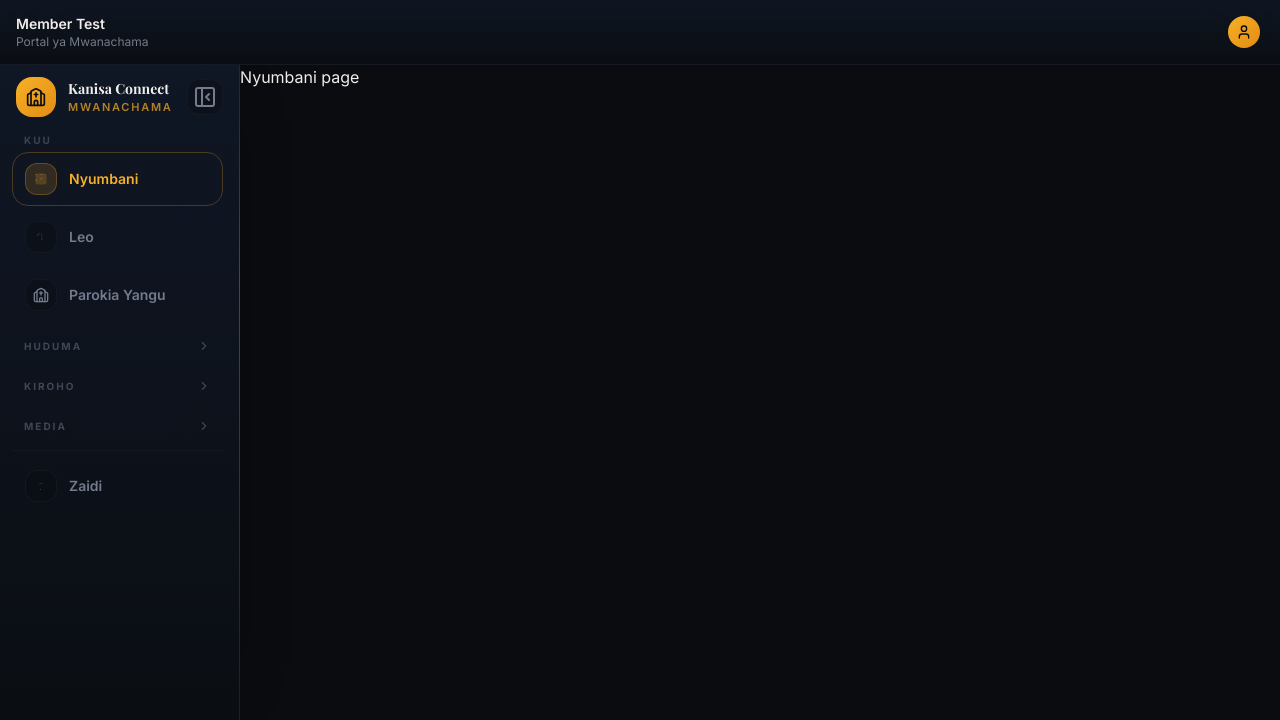
Wave 14 member navigation hierarchy runtime › renders desktop Primary without duplicate Jumuiya and keeps secondary groups intact
Check: the element with test id "member-desktop-sidebar" is shown, box [0,65,240,719]
Check: the element named "Kuu" shows "Nyumbani", box [12,152,223,206]
Click the button "Huduma": [118, 346] box [12,330,223,362]
(page scrolled)
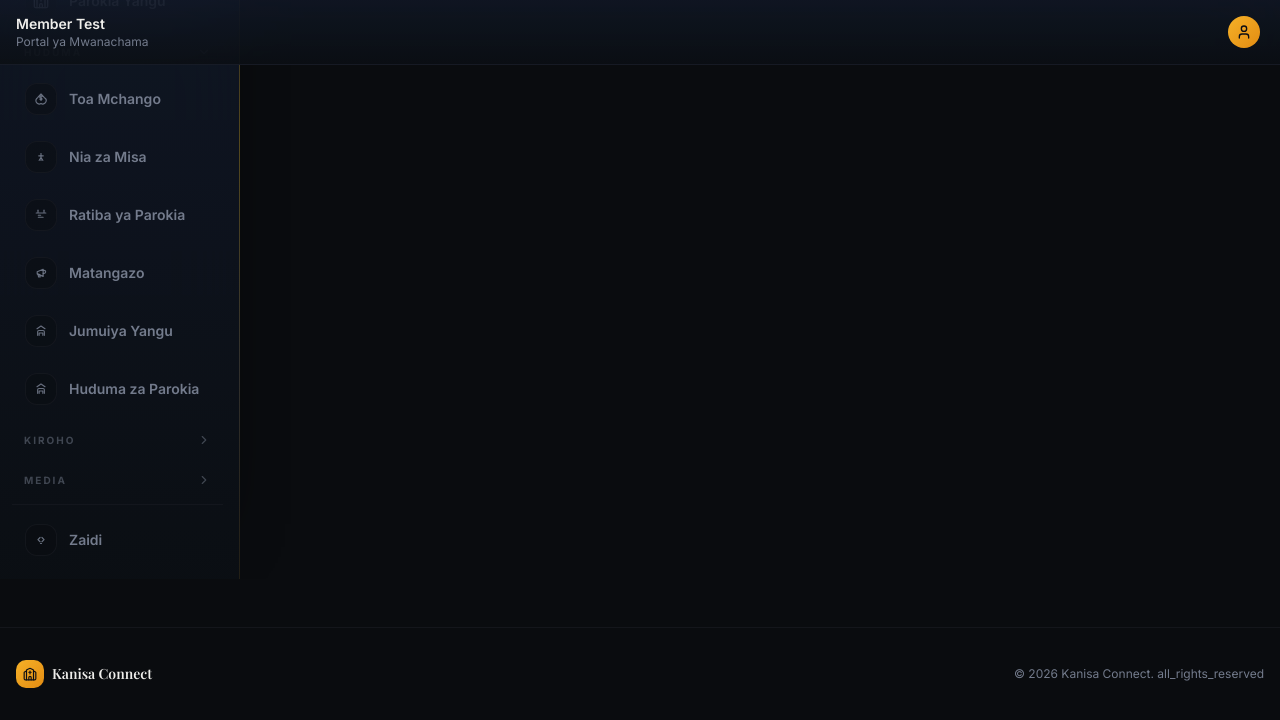
Check: the element named "Huduma" shows "Jumuiya Yangu", box [12,304,223,358]
Check: the element named "Huduma" shows "Toa Mchango", box [12,72,223,126]
Check: the element named "Huduma" shows "Nia za Misa", box [12,130,223,184]
